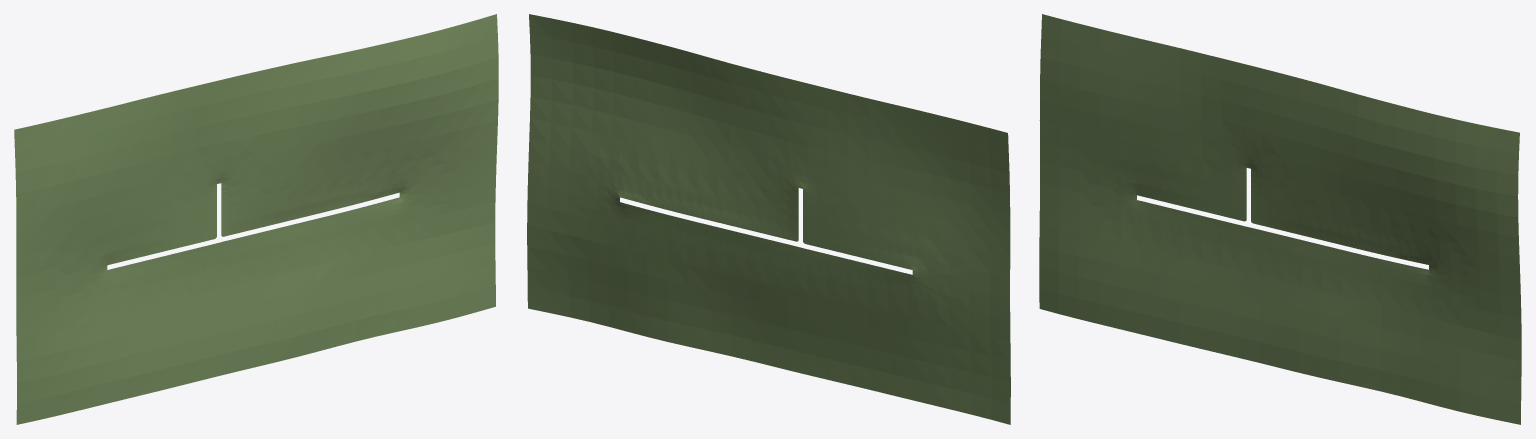
The model's file is Low_High_Beam.obj.
3 views of the same model, side by side, from view 1: azimuth 30°, elevation 25°; view 2: azimuth 150°, elevation 25°; view 3: azimuth 330°, elevation 25° (orthographic).
Visible parts, largest first — view 1: Background; view 2: Background; view 3: Background.
Boxes of the visible parts, <box> form: Background: <box>14,14,498,424</box>; Background: <box>527,14,1010,424</box>; Background: <box>1039,14,1521,424</box>.
Size of the model in its own units: 960 by 560 by 27.74.
